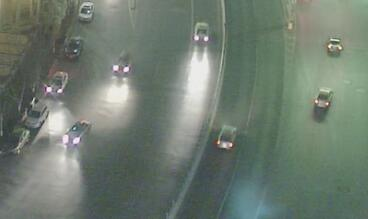bus: (77, 1, 96, 23)
car: (61, 120, 90, 146), (23, 102, 49, 129), (4, 126, 29, 154), (43, 71, 68, 96), (216, 123, 237, 149), (312, 87, 335, 110), (64, 36, 83, 58), (112, 57, 133, 76), (192, 20, 209, 42), (327, 37, 343, 55)
